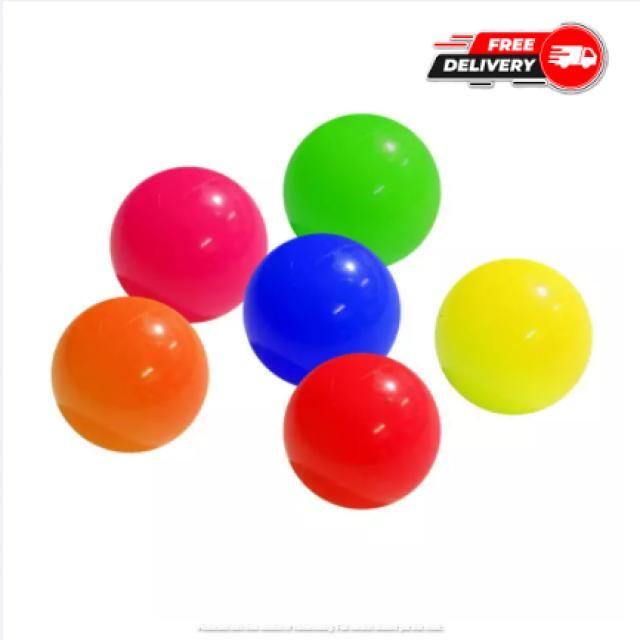hatball: (430, 257, 595, 419), (273, 353, 441, 511), (44, 296, 208, 456), (101, 167, 268, 320), (280, 113, 442, 268), (241, 236, 406, 384)
